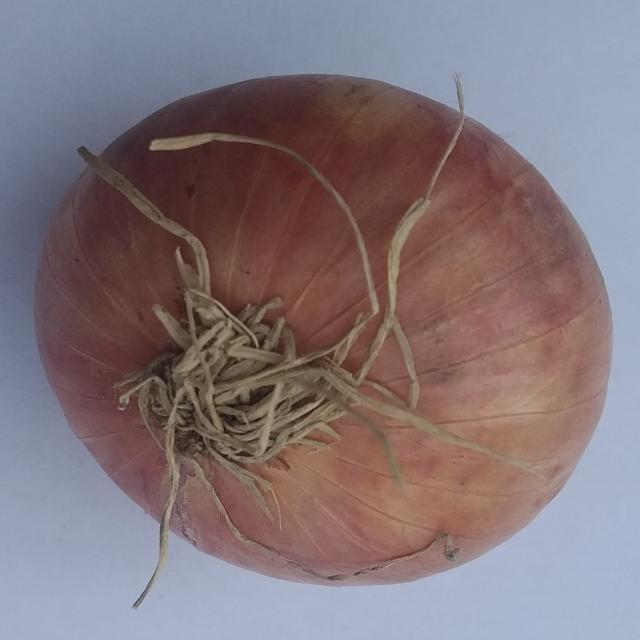onion: (31, 69, 617, 611)
